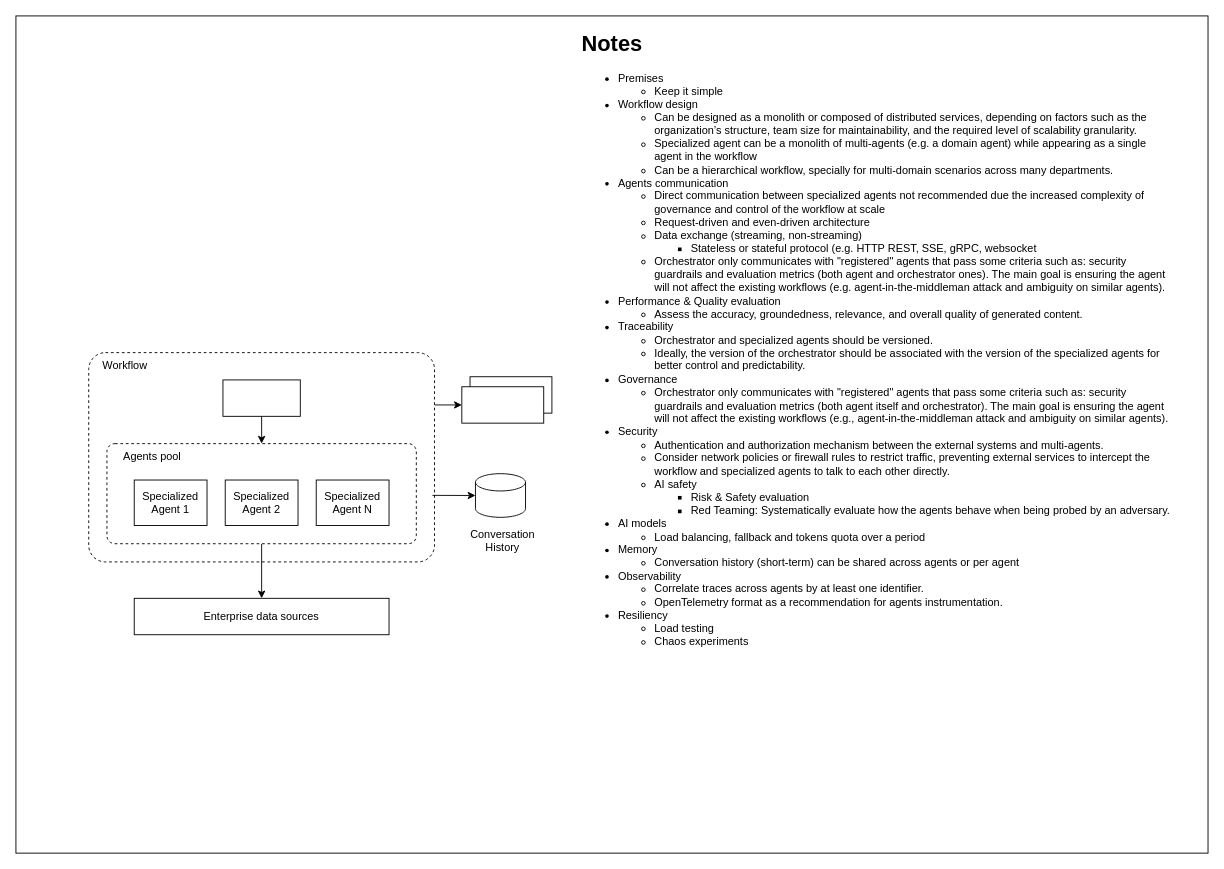
Some shapes in this 1224 by 869 pixel diagram are drawn without their labels. The box of each missing label's shape, as (x1, y1, x2, y2) in pixels:
AI models: (461, 386, 544, 423)
Orchestrator Agent: (222, 379, 300, 416)
